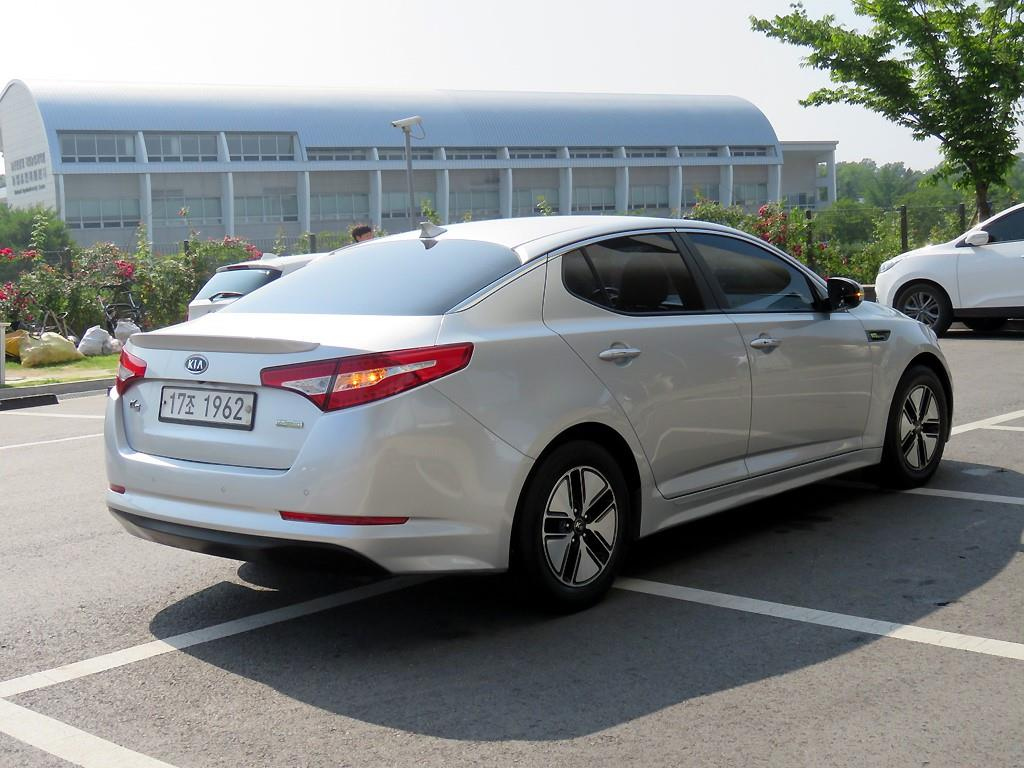plate: (160, 387, 256, 426)
